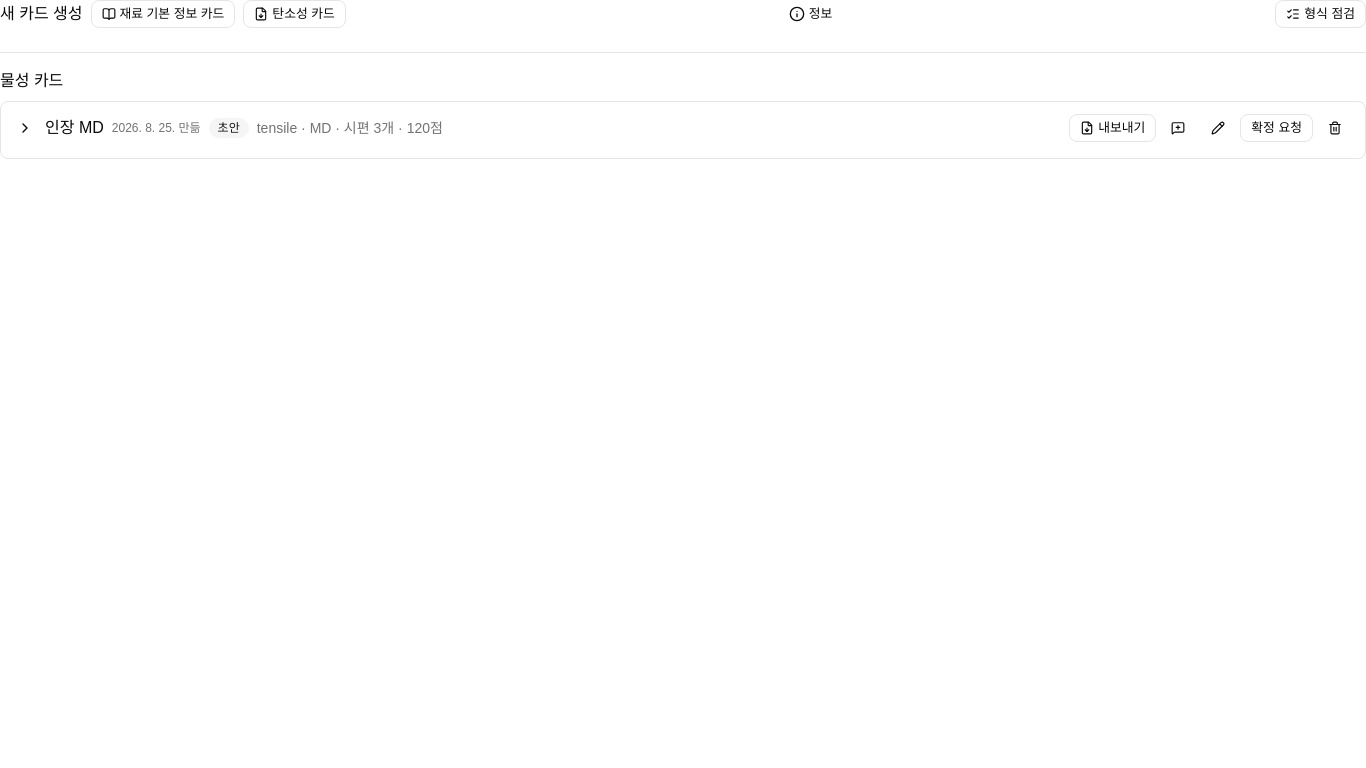
Scenario: 확정 요청 › 고칠 수 있는 멤버는 초안의 확정을 부탁하고, 몇 명에게 갔는지 본다
Expected: the text "인장 MD" is shown, left=45, top=116, right=104, bottom=140
Click the button "확정 요청" at {"x": 1277, "y": 128}, box left=1240, top=114, right=1313, bottom=142
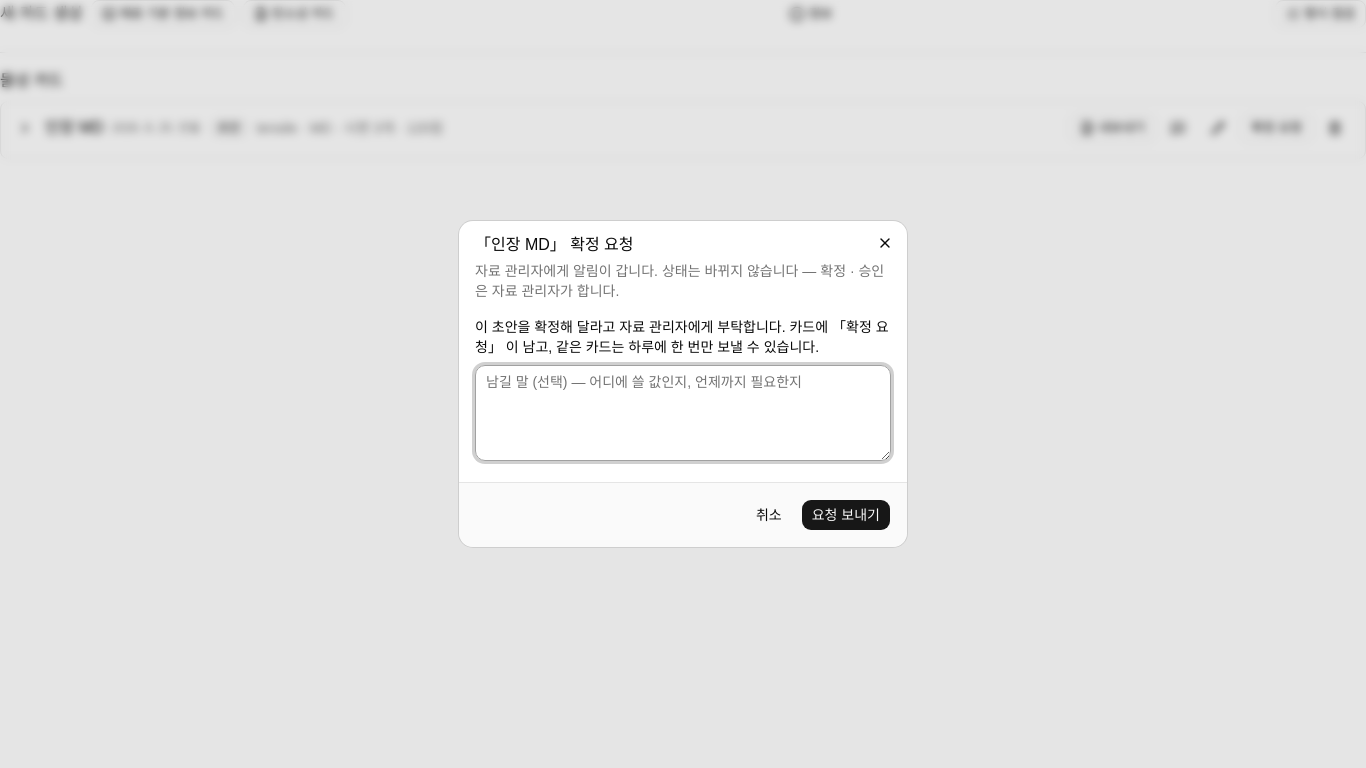
Type "다음 주 해석" into the text box labelled "남길 말" at {"x": 683, "y": 413}, box left=475, top=365, right=891, bottom=461
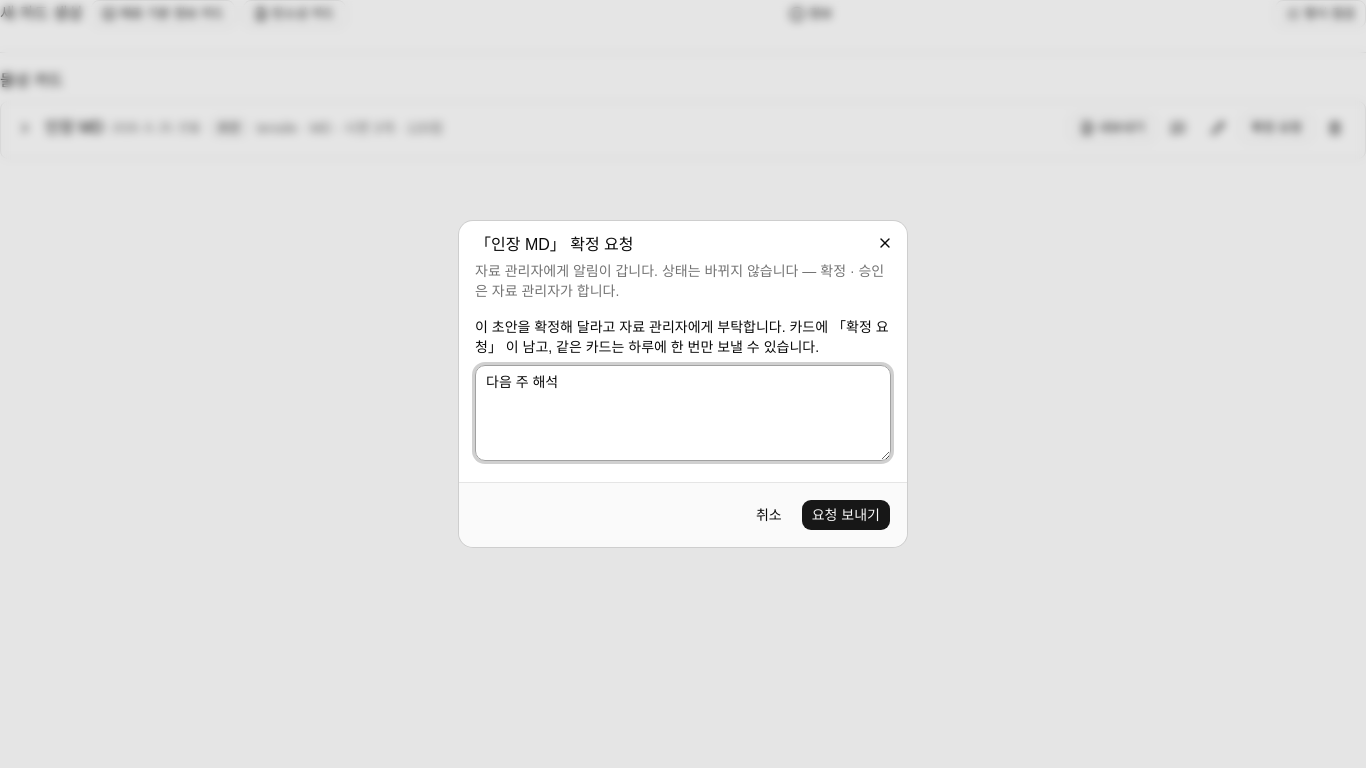
Click the button "요청 보내기" at {"x": 846, "y": 515}, box left=801, top=499, right=891, bottom=531
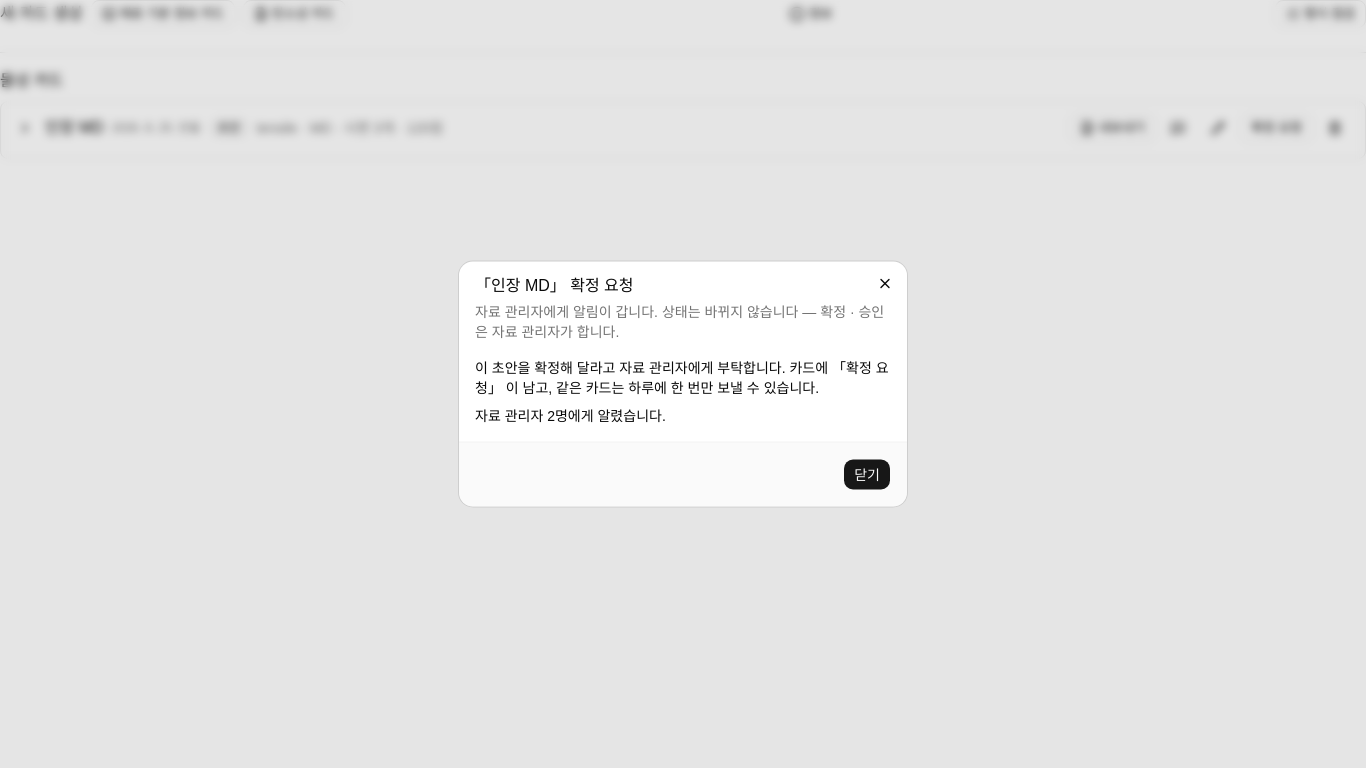
Expected: the text "자료 관리자 2명에게 알렸습니다." is shown, left=475, top=408, right=666, bottom=424
